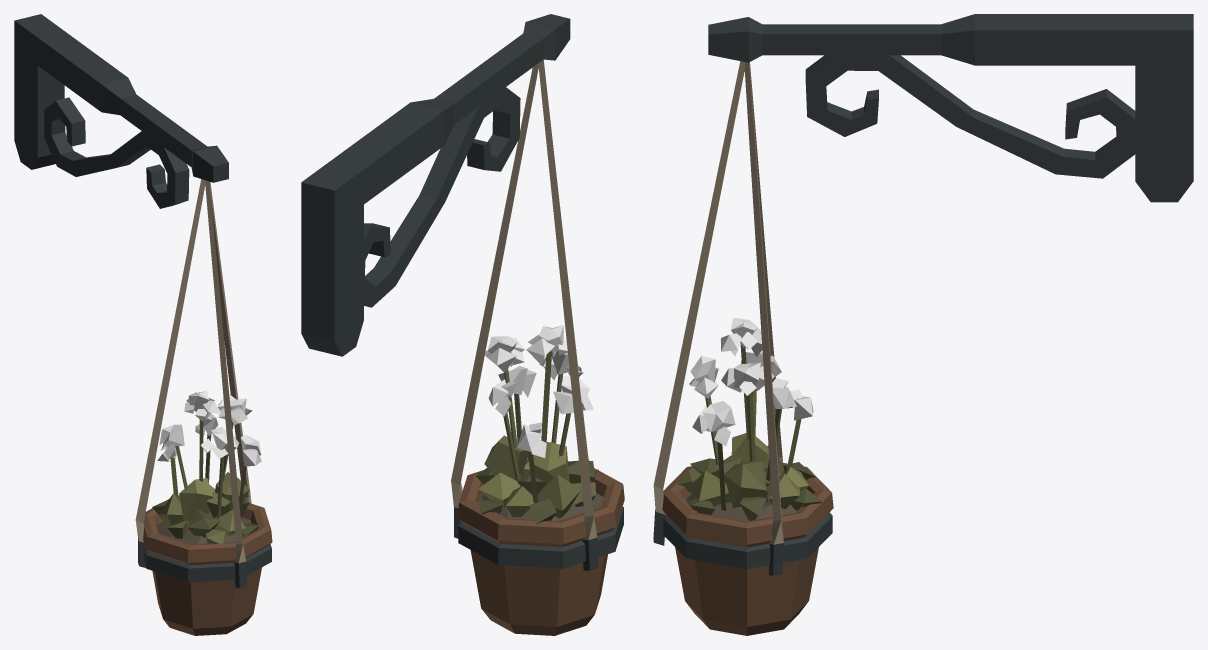
The model's file is kingdom_SM_Prop_Bracket_Pot_01_Preset_02.gltf.
3 views of the same model, side by side, from view 1: azimuth 30°, elevation 25°; view 2: azimuth 150°, elevation 25°; view 3: azimuth 270°, elevation 25° (orthographic). The views are drawn at different scales.
Visible parts, largest first — view 1: SM_Prop_Bracket_Pot_01_Preset_02; view 2: SM_Prop_Bracket_Pot_01_Preset_02; view 3: SM_Prop_Bracket_Pot_01_Preset_02.
Boxes of the visible parts, <box> form: SM_Prop_Bracket_Pot_01_Preset_02: <box>14,14,272,635</box>; SM_Prop_Bracket_Pot_01_Preset_02: <box>301,14,624,635</box>; SM_Prop_Bracket_Pot_01_Preset_02: <box>653,14,1193,635</box>.
Size of the model in its own units: 0.5809 by 2.19 by 1.81.
1 material, 1 textured.
